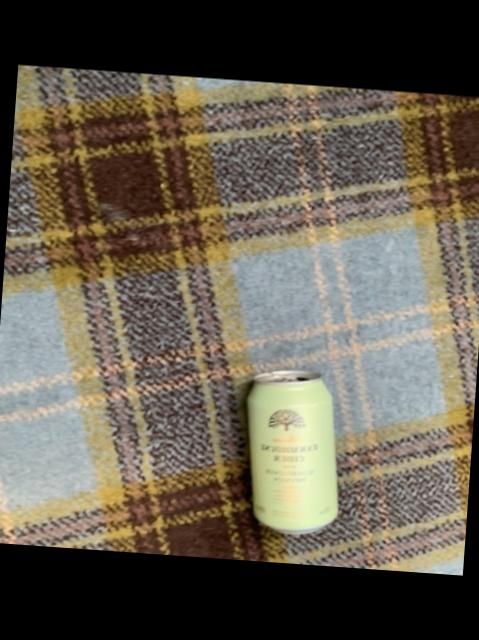metal: (247, 371, 337, 534)
